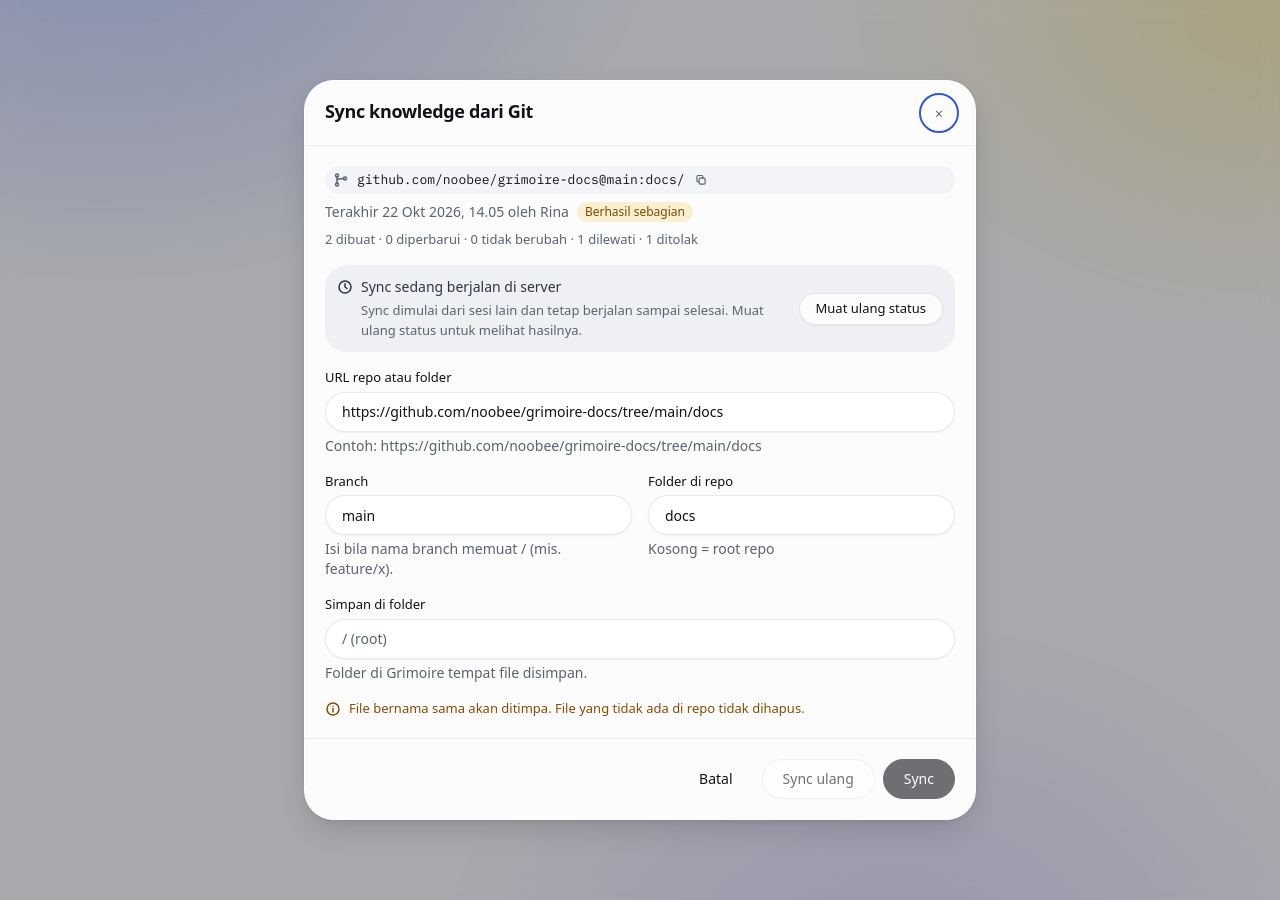
it: GitSyncDialog › reload: in_progress false + success announces once; failed does not; still true keeps banner
Expected: the message with test id "sync-in-progress" is shown, [325,265,955,352]
Click the button "Muat ulang status": [871, 308] box [798,292,943,324]
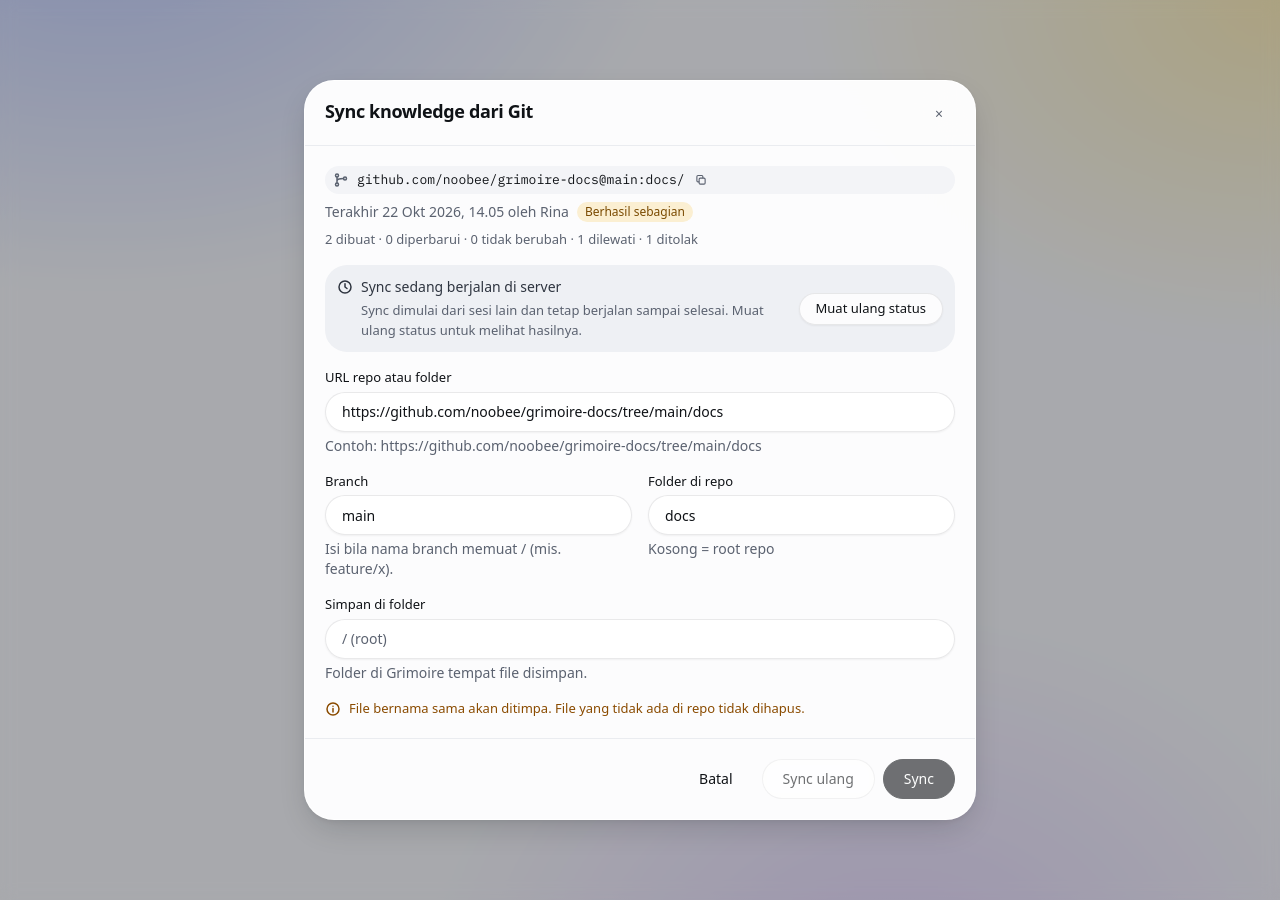
Expected: the message with test id "sync-in-progress" is shown, [325,265,955,352]
Click the button "Muat ulang status": [871, 308] box [798,292,943,324]
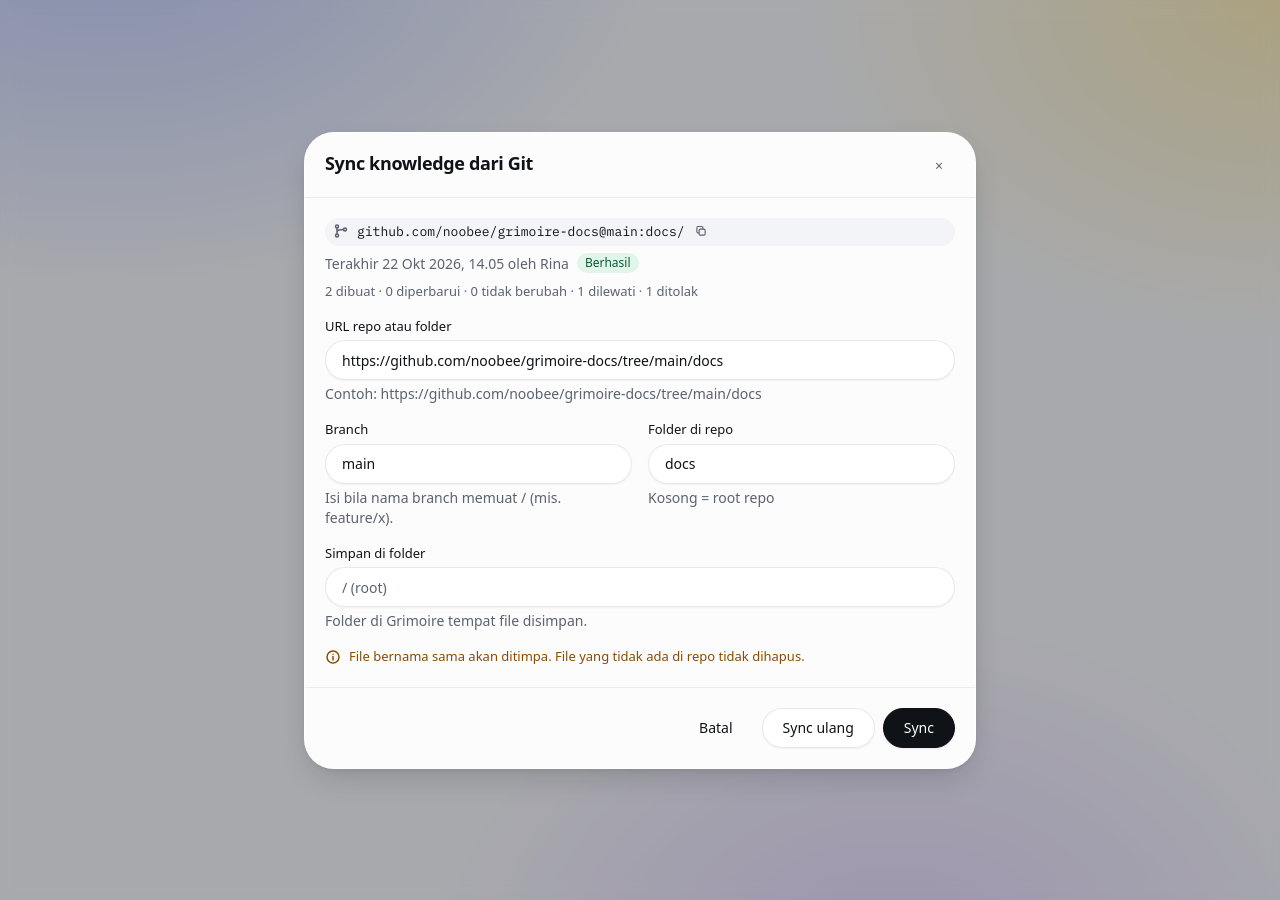
Result: the message with test id "sync-in-progress" is gone
